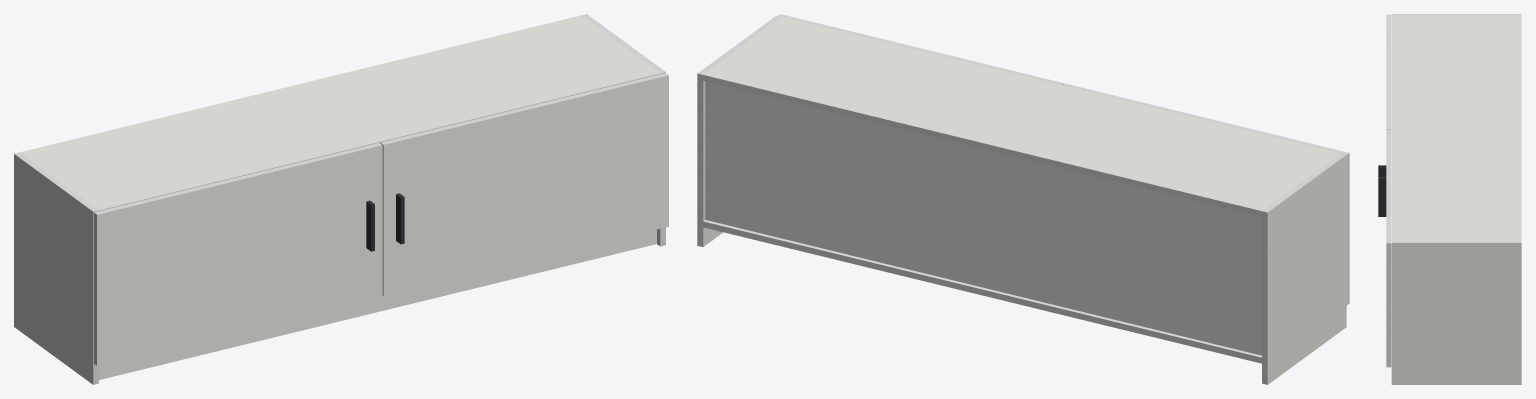
Rendered from LIT-MED-std.glb.
The picture shows the model from 3 angles, left to right: view 1: azimuth 30°, elevation 25°; view 2: azimuth 150°, elevation 25°; view 3: azimuth 270°, elevation 25°; orthographic projection. The views are drawn at different scales.
Visible parts, largest first — view 1: top:pbr, door-l:pbr, door-r:pbr, side-l:pbr, plinth:pbr, door-l:sheet:eyJtIjoibWRmIiwic2lkZSI6ImVkZ2UtbG9uZyIsInNlZWQ, door-r:sheet:eyJtIjoibWRmIiwic2lkZSI6ImVkZ2UtbG9uZyIsInNlZWQ, pull, top:sheet:eyJtIjoibWRmIiwic2lkZSI6ImVkZ2UtbG9uZyIsInNlZWQiOj; view 2: back:sheet:eyJtIjoibWRmIiwic2lkZSI6ImZhY2UiLCJzZWVkIjoxLCJ0a, top:pbr, side-l:pbr, bottom:sheet:eyJtIjoibWRmIiwic2lkZSI6ImVkZ2UtbG9uZyIsInNlZWQ, top:sheet:eyJtIjoibWRmIiwic2lkZSI6ImVkZ2UtbG9uZyIsInNlZWQiOj, bottom:pbr, side-r:sheet:eyJtIjoibWRmIiwic2lkZSI6ImVkZ2UtbG9uZyIsInNlZWQ, side-l:sheet:eyJtIjoibWRmIiwic2lkZSI6ImVkZ2UtbG9uZyIsInNlZWQ, door-l:sheet:eyJtIjoibWRmIiwic2lkZSI6ImVkZ2UtbG9uZyIsInNlZWQ, door-r:sheet:eyJtIjoibWRmIiwic2lkZSI6ImVkZ2UtbG9uZyIsInNlZWQ, side-r:pbr, door-l:sheet:eyJtIjoibWRmIiwic2lkZSI6ImVkZ2UtZW5kIiwic2VlZCI; view 3: top:pbr, side-r:pbr, door-r:sheet:eyJtIjoibWRmIiwic2lkZSI6ImVkZ2UtZW5kIiwic2VlZCI, door-l:sheet:eyJtIjoibWRmIiwic2lkZSI6ImVkZ2UtbG9uZyIsInNlZWQ, door-r:sheet:eyJtIjoibWRmIiwic2lkZSI6ImVkZ2UtbG9uZyIsInNlZWQ, pull, side-l:sheet:eyJtIjoibWRmIiwic2lkZSI6ImVkZ2UtZW5kIiwic2VlZCI, side-r:sheet:eyJtIjoibWRmIiwic2lkZSI6ImVkZ2UtZW5kIiwic2VlZCI.
Part boxes in pixels (x1=…): top:pbr: x1=20, y1=15, x2=659, y2=210; door-l:pbr: x1=97, y1=145, x2=382, y2=365; door-r:pbr: x1=383, y1=75, x2=668, y2=295; side-l:pbr: x1=14, y1=154, x2=93, y2=384; plinth:pbr: x1=99, y1=229, x2=656, y2=379; door-l:sheet:eyJtIjoibWRmIiwic2lkZSI6ImVkZ2UtbG9uZyIsInNlZWQ: x1=94, y1=143, x2=382, y2=214; door-r:sheet:eyJtIjoibWRmIiwic2lkZSI6ImVkZ2UtbG9uZyIsInNlZWQ: x1=381, y1=73, x2=668, y2=144; pull: x1=366, y1=193, x2=404, y2=251; top:sheet:eyJtIjoibWRmIiwic2lkZSI6ImVkZ2UtbG9uZyIsInNlZWQiOj: x1=99, y1=73, x2=659, y2=210; back:sheet:eyJtIjoibWRmIiwic2lkZSI6ImZhY2UiLCJzZWVkIjoxLCJ0a: x1=705, y1=81, x2=1261, y2=355; top:pbr: x1=703, y1=17, x2=1340, y2=210; side-l:pbr: x1=1267, y1=155, x2=1346, y2=384; bottom:sheet:eyJtIjoibWRmIiwic2lkZSI6ImVkZ2UtbG9uZyIsInNlZWQ: x1=703, y1=221, x2=1261, y2=363; top:sheet:eyJtIjoibWRmIiwic2lkZSI6ImVkZ2UtbG9uZyIsInNlZWQiOj: x1=703, y1=75, x2=1261, y2=216; bottom:pbr: x1=703, y1=220, x2=1261, y2=357; side-r:sheet:eyJtIjoibWRmIiwic2lkZSI6ImVkZ2UtbG9uZyIsInNlZWQ: x1=697, y1=73, x2=703, y2=246; side-l:sheet:eyJtIjoibWRmIiwic2lkZSI6ImVkZ2UtbG9uZyIsInNlZWQ: x1=1262, y1=211, x2=1267, y2=384; door-l:sheet:eyJtIjoibWRmIiwic2lkZSI6ImVkZ2UtbG9uZyIsInNlZWQ: x1=1063, y1=83, x2=1348, y2=154; door-r:sheet:eyJtIjoibWRmIiwic2lkZSI6ImVkZ2UtbG9uZyIsInNlZWQ: x1=778, y1=14, x2=1063, y2=85; side-r:pbr: x1=703, y1=81, x2=722, y2=246; door-l:sheet:eyJtIjoibWRmIiwic2lkZSI6ImVkZ2UtZW5kIiwic2VlZCI: x1=1346, y1=153, x2=1349, y2=305; top:pbr: x1=1391, y1=16, x2=1521, y2=240; side-r:pbr: x1=1391, y1=243, x2=1521, y2=384; door-r:sheet:eyJtIjoibWRmIiwic2lkZSI6ImVkZ2UtZW5kIiwic2VlZCI: x1=1386, y1=243, x2=1391, y2=367; door-l:sheet:eyJtIjoibWRmIiwic2lkZSI6ImVkZ2UtbG9uZyIsInNlZWQ: x1=1386, y1=14, x2=1391, y2=128; door-r:sheet:eyJtIjoibWRmIiwic2lkZSI6ImVkZ2UtbG9uZyIsInNlZWQ: x1=1386, y1=129, x2=1391, y2=243; pull: x1=1378, y1=165, x2=1386, y2=216; side-l:sheet:eyJtIjoibWRmIiwic2lkZSI6ImVkZ2UtZW5kIiwic2VlZCI: x1=1391, y1=14, x2=1521, y2=16; side-r:sheet:eyJtIjoibWRmIiwic2lkZSI6ImVkZ2UtZW5kIiwic2VlZCI: x1=1391, y1=240, x2=1521, y2=242.
Size of the model in its own units: 1.8 by 0.52 by 0.4769.
Materials: 34 (23 with a texture image).
